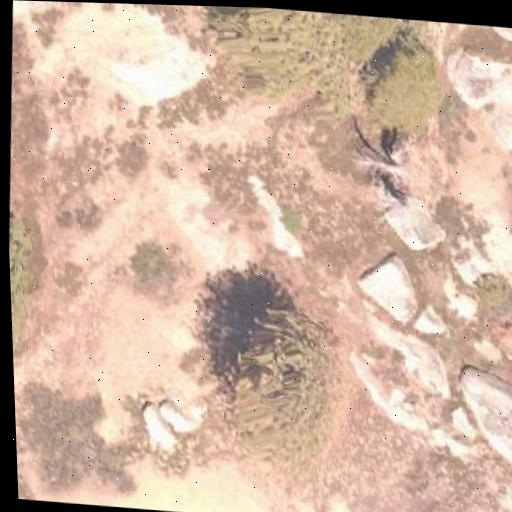tree-top: (204, 302, 382, 468), (196, 6, 383, 123), (352, 30, 457, 146), (7, 191, 44, 367)
